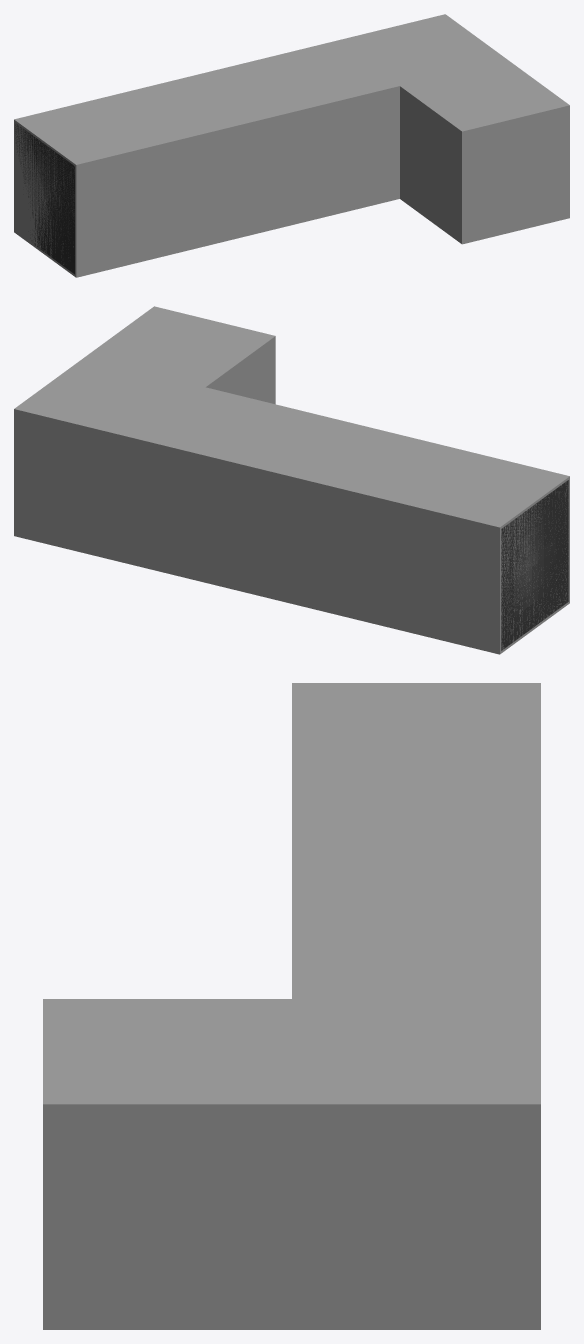
File: ModernStreetLight.obj
3 views of the same model, one above another, from view 1: azimuth 30°, elevation 25°; view 2: azimuth 150°, elevation 25°; view 3: azimuth 270°, elevation 25° (orthographic). The views are drawn at different scales.
Visible parts, largest first — view 1: Minecraft_Block.004_Cube.004, Minecraft_Block_Cube, Minecraft_Block.001_Cube.001, Minecraft_Block.002_Cube.002, Minecraft_Block.003_Cube.003, socket; view 2: Minecraft_Block_Cube, Minecraft_Block.001_Cube.001, Minecraft_Block.002_Cube.002, Minecraft_Block.003_Cube.003, Minecraft_Block.004_Cube.004, socket; view 3: Minecraft_Block.004_Cube.004, Minecraft_Block.003_Cube.003, Minecraft_Block.002_Cube.002, Minecraft_Block.001_Cube.001, Minecraft_Block_Cube.
Part boxes in pixels (x1,y1,x2,y2): Minecraft_Block.004_Cube.004: (400, 59, 569, 244); Minecraft_Block_Cube: (14, 93, 183, 277); Minecraft_Block.001_Cube.001: (122, 67, 291, 251); Minecraft_Block.002_Cube.002: (230, 40, 399, 224); Minecraft_Block.003_Cube.003: (338, 14, 507, 85); socket: (15, 124, 74, 274); Minecraft_Block_Cube: (378, 446, 569, 654); Minecraft_Block.001_Cube.001: (257, 417, 448, 624); Minecraft_Block.002_Cube.002: (135, 387, 326, 595); Minecraft_Block.003_Cube.003: (14, 357, 204, 565); Minecraft_Block.004_Cube.004: (84, 306, 275, 404); socket: (501, 480, 568, 650); Minecraft_Block.004_Cube.004: (43, 999, 291, 1329); Minecraft_Block.003_Cube.003: (292, 999, 540, 1329); Minecraft_Block.002_Cube.002: (292, 893, 540, 998); Minecraft_Block.001_Cube.001: (292, 788, 540, 893); Minecraft_Block_Cube: (292, 683, 540, 788).
Bounding box in the file's own units: 4 × 1 × 2.
Materials: 3 (2 with a texture image).
